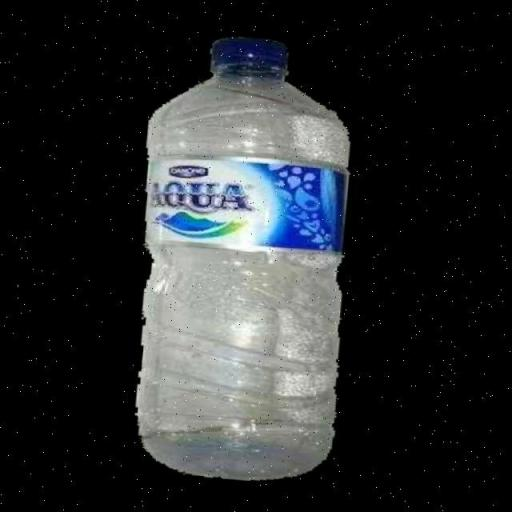plastic: (116, 28, 370, 486)
